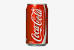coke: (29, 7, 44, 43)
